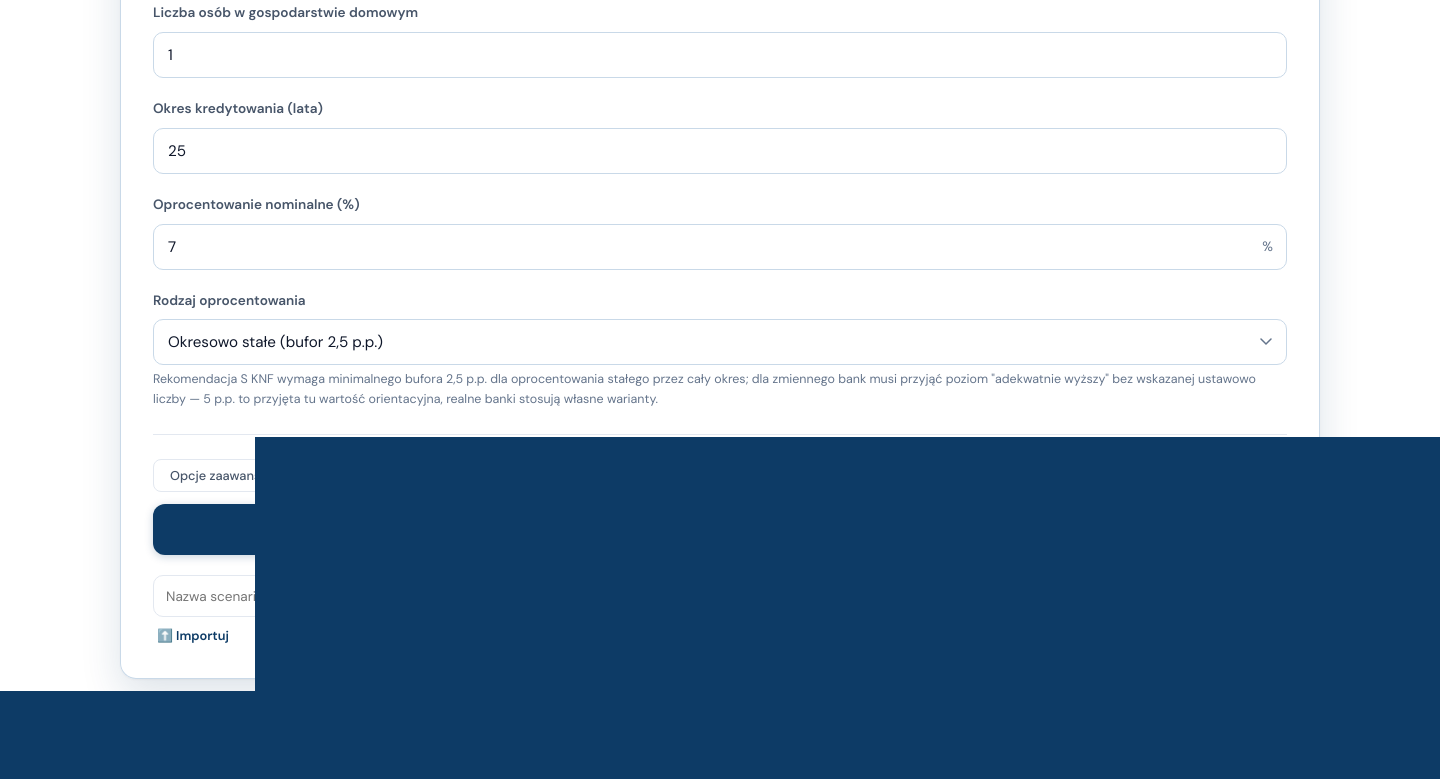
CreditworthinessCalculator copy link button (render) › regression: a "Kopiuj link" button appears once a result exists, alongside the existing "Kopiuj wynik" summary button — previously only the summary button exist
This screenshot has width=1440, height=779.
(page scrolled)
Check: the button "kopiuj link" is not shown
Click the button "Oblicz" at (646, 530), box [153,504,1139,555]
(page scrolled)
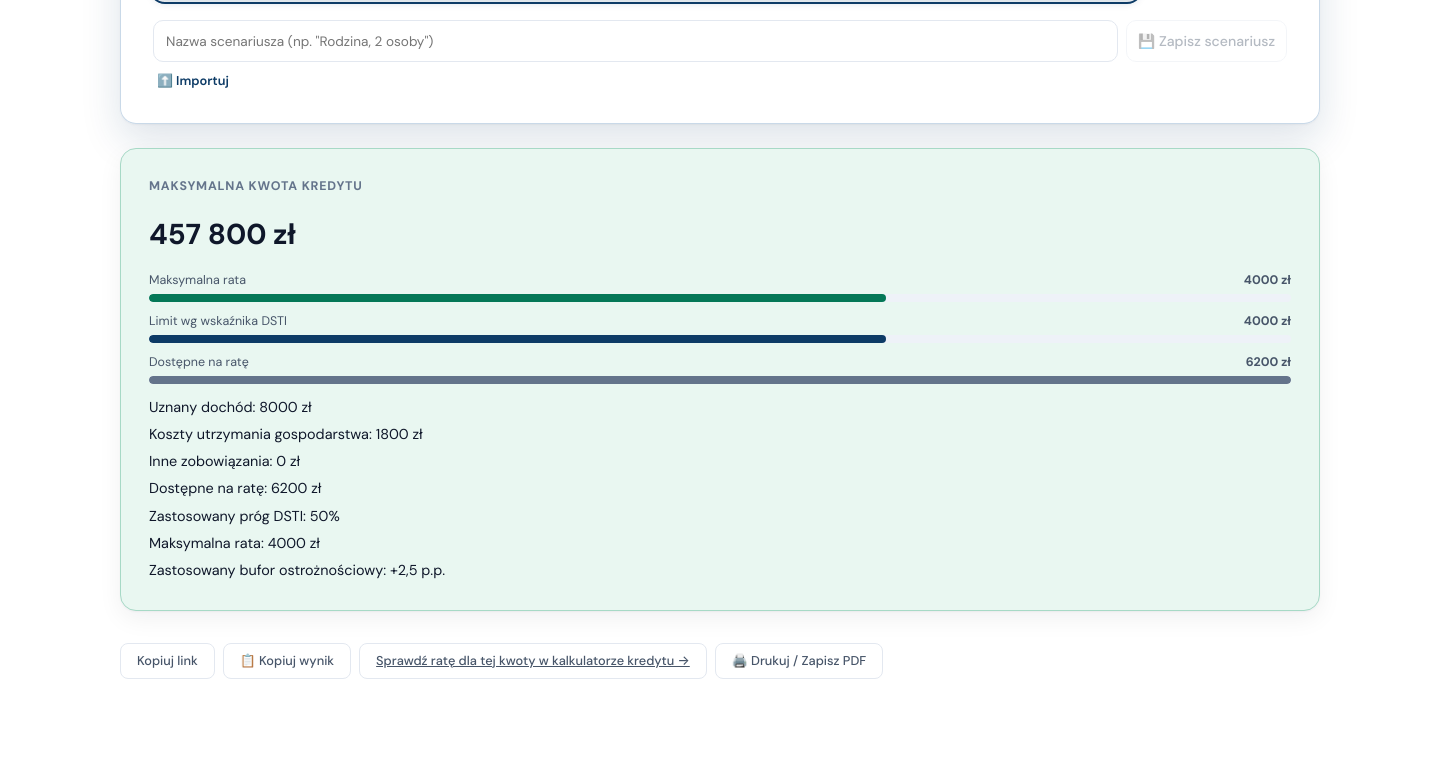
Check: the button "Kopiuj link" is shown, box [120,643,215,679]
